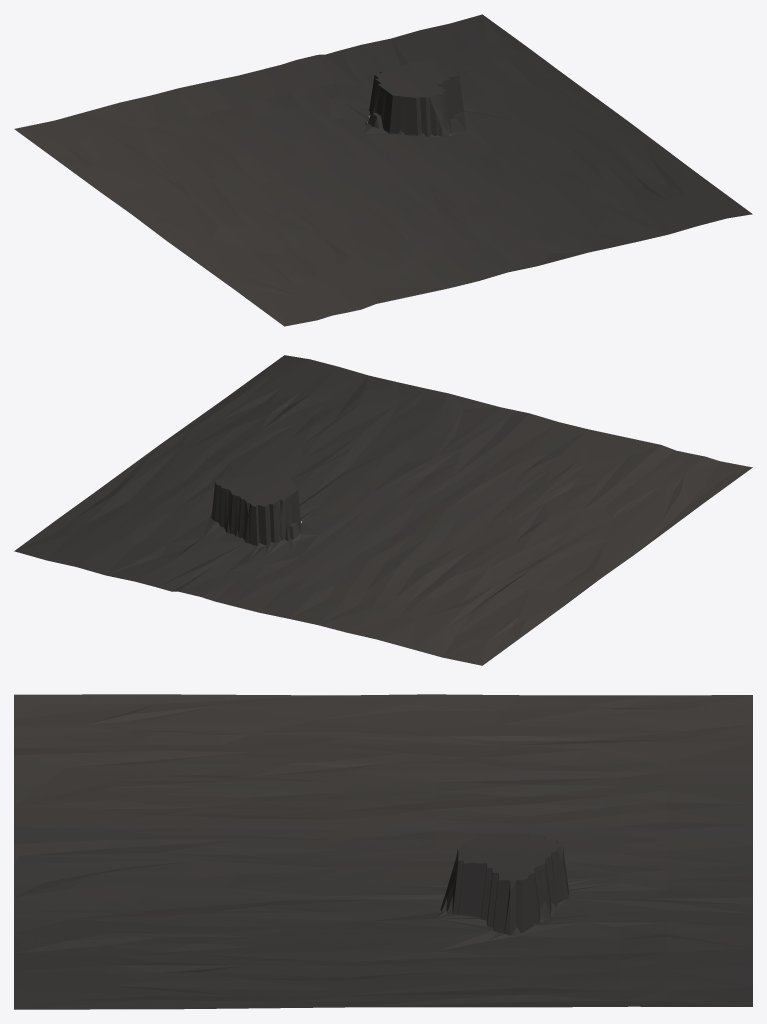
The model's file is Terrain_2.fbx.
The picture shows the model from 3 angles, top to bottom: view 1: azimuth 30°, elevation 25°; view 2: azimuth 150°, elevation 25°; view 3: azimuth 270°, elevation 25°; orthographic projection. The views are drawn at different scales.
Parts seen in each view (by area): view 1: polySurface607; view 2: polySurface607; view 3: polySurface607.
Part boxes in pixels (box(x1,y1,x2,y2)): polySurface607: box(14, 14, 752, 326); polySurface607: box(14, 355, 752, 665); polySurface607: box(14, 694, 752, 1009).
Size of the model in its own units: 10000 by 797 by 10000.
Materials: 1 (1 with a texture image).
